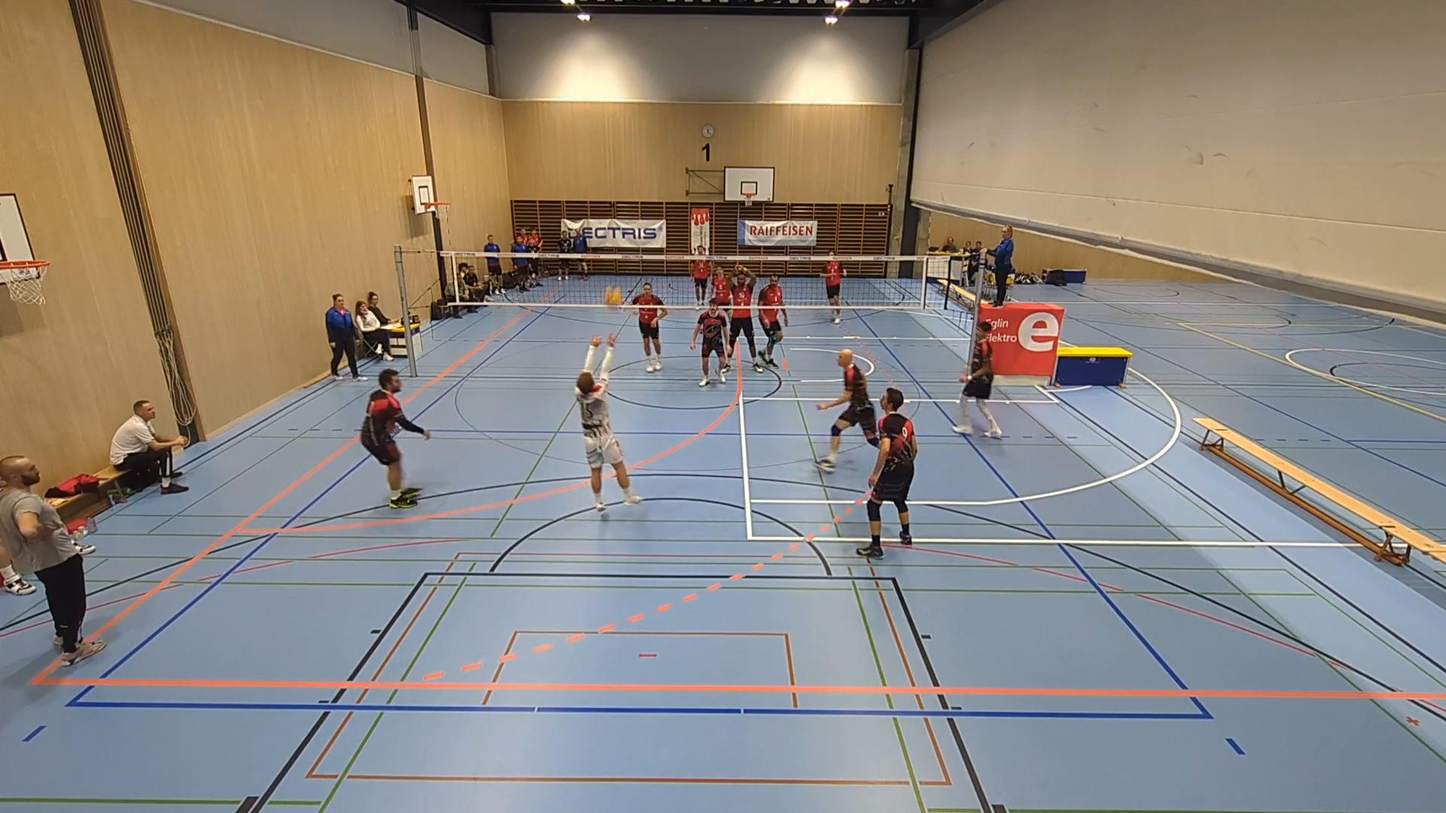ricezione: (572, 330, 642, 517)
